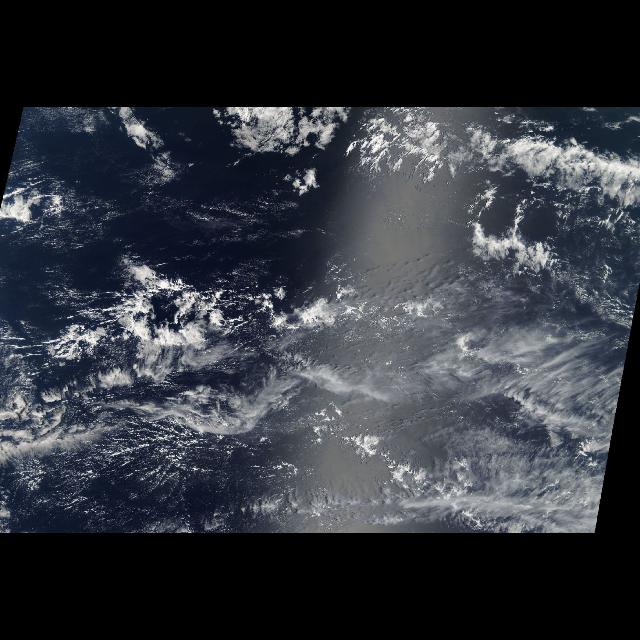Fish: (32, 277, 330, 385)
Sugar: (19, 111, 364, 267), (36, 434, 356, 522)
